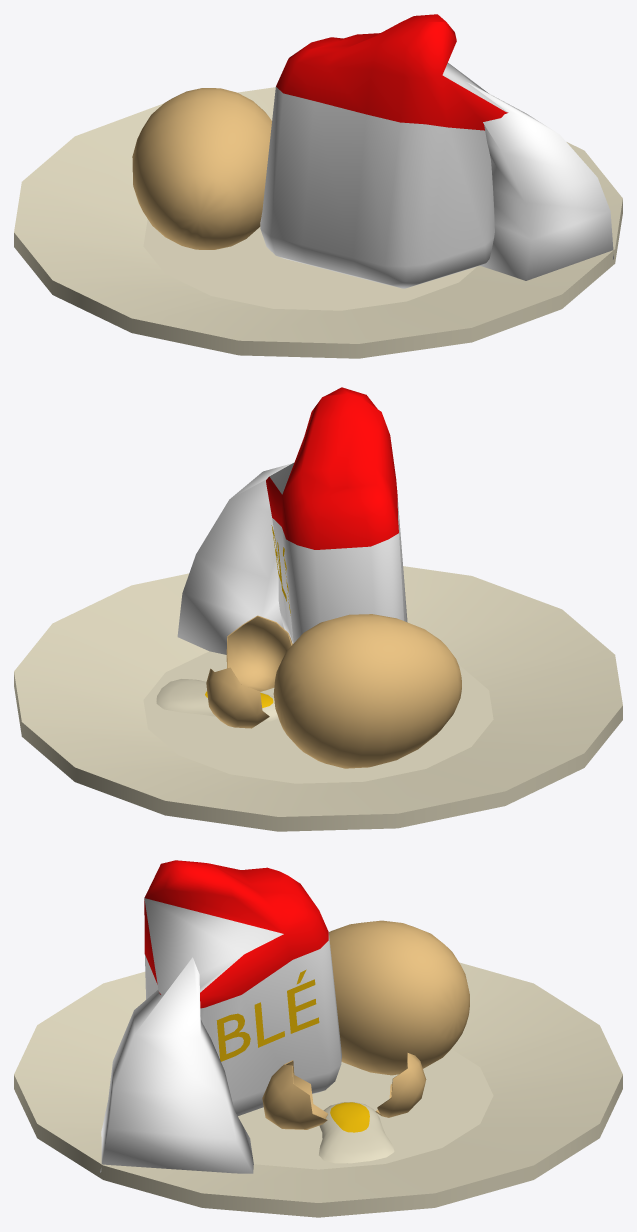
The model's file is PithiviersButchered.fbx.
3 views of the same model, one above another, from view 1: azimuth 30°, elevation 25°; view 2: azimuth 150°, elevation 25°; view 3: azimuth 270°, elevation 25° (orthographic).
Visible parts, largest first — view 1: Pithiviers_Butchered; view 2: Pithiviers_Butchered; view 3: Pithiviers_Butchered.
Boxes of the visible parts, bbox=[...] form: Pithiviers_Butchered: bbox=[14, 14, 622, 358]; Pithiviers_Butchered: bbox=[14, 387, 622, 831]; Pithiviers_Butchered: bbox=[14, 860, 622, 1217].
Bounding box in the file's own units: 0.6488 × 0.6488 × 0.3354.
